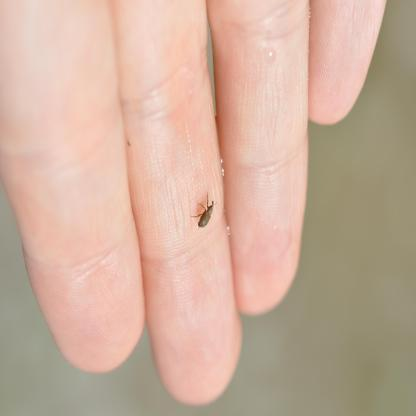rice-bug: (194, 192, 220, 230)
